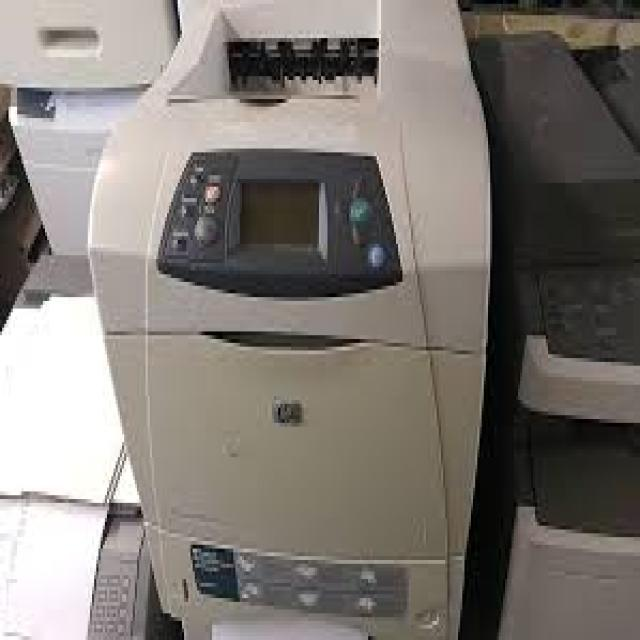printer: (86, 0, 492, 636)
